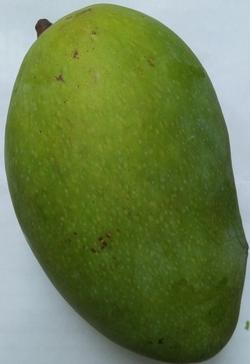Unripe: (1, 1, 250, 364)
